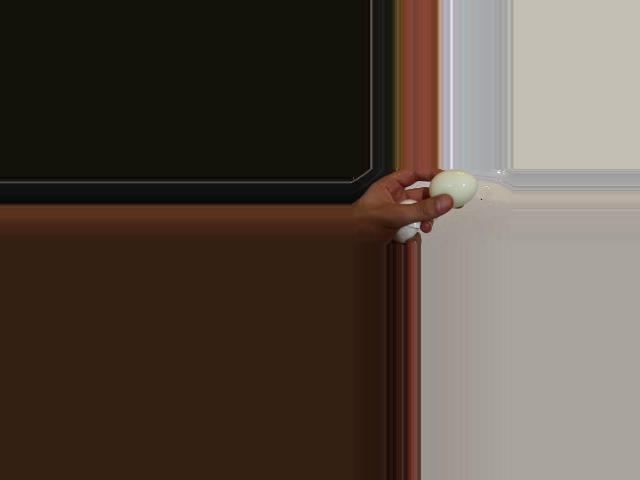egg: (429, 169, 476, 208)
